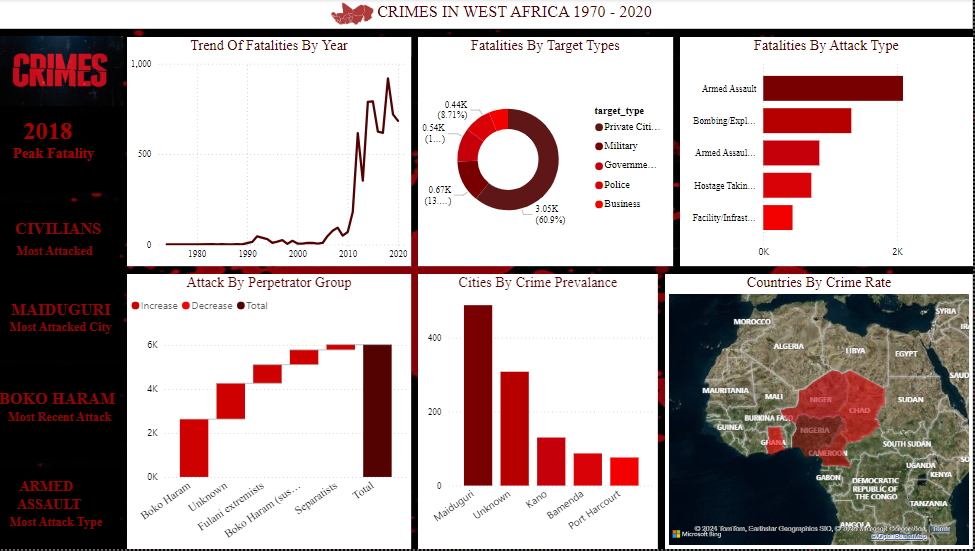

The dashboard page shown, as its layout file describes it:
{"tool":"powerbi","page":{"name":"Page 1","canvas":[1280,720],"ordinal":0},"visuals":[{"type":"filledMap","title":" Countries By Crime Rate","fields":{"Category":["gtd_crime_west_africa.Country"]},"box":[877.1,360,403.2,360],"z":0},{"type":"columnChart","title":" Cities By Crime Prevalance","fields":{"Y":["CountNonNull(gtd_crime_west_africa.GTID)"],"Category":["gtd_crime_west_africa.City"]},"box":[553.7,360,314.2,360],"z":1000},{"type":"lineChart","title":"Trend Of Fatalities By Year","fields":{"Category":["gtd_crime_west_africa.Date.Variation.Date Hierarchy.Year"],"Y":["CountNonNull(gtd_crime_west_africa.fatalities)"]},"box":[172.8,49.7,371.8,299.8],"z":2000},{"type":"waterfallChart","title":" Attack By Perpetrator Group","fields":{"Category":["gtd_crime_west_africa.Perpetrator_group"],"Y":["CountNonNull(gtd_crime_west_africa.GTID)"]},"box":[172.8,360,371.8,360],"z":3000},{"type":"barChart","title":"Fatalities By Attack Type","fields":{"Category":["gtd_crime_west_africa.weapon_type"],"Y":["CountNonNull(gtd_crime_west_africa.fatalities)"]},"box":[896.7,49.7,383.6,299.8],"z":4000},{"type":"textbox","box":[0,0,1280.3,39.3],"z":5000},{"type":"donutChart","title":" Fatalities By Target Types","fields":{"Category":["gtd_crime_west_africa.target_type"],"Y":["CountNonNull(gtd_crime_west_africa.fatalities)"]},"box":[553.7,49.7,333.8,299.8],"z":6000},{"type":"image","box":[0,39.3,172.8,110],"z":7000},{"type":"image","box":[433.3,0,68.1,39.3],"z":8000},{"type":"textbox","box":[0,479.1,163.6,123.1],"z":9000},{"type":"textbox","box":[3.9,373.1,163.6,99.5],"z":10000},{"type":"textbox","box":[0,267.1,163.6,106],"z":11000},{"type":"textbox","box":[0,149.2,163.6,104.7],"z":12000},{"type":"textbox","box":[0,614.6,163.5,105.7],"z":13000}]}

Visuals, with their boxes in screenshot pixels (x1, y1, x2, y2), scaled from the page's 1280x720 canvas onto the 975x551 screenshot:
" Countries By Crime Rate" filledMap: 668,276,974,550
" Cities By Crime Prevalance" columnChart: 422,276,661,550
"Trend Of Fatalities By Year" lineChart: 132,38,415,267
" Attack By Perpetrator Group" waterfallChart: 132,276,415,550
"Fatalities By Attack Type" barChart: 683,38,974,267
textbox: 0,0,974,30
" Fatalities By Target Types" donutChart: 422,38,676,267
image: 0,30,132,114
image: 330,0,382,30
textbox: 0,367,125,461
textbox: 3,286,128,362
textbox: 0,204,125,286
textbox: 0,114,125,194
textbox: 0,470,125,550
